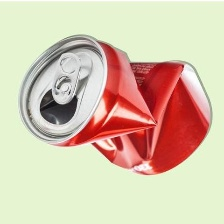can: (12, 32, 218, 183)
